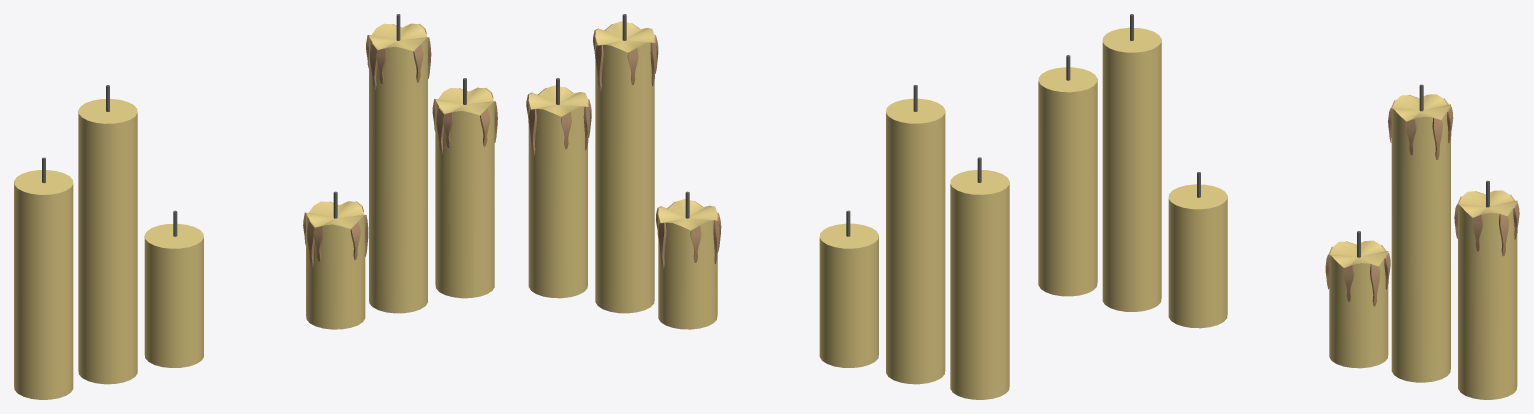
The model's file is Candles_Done_UVProper.fbx.
3 renders of one model, left to right at view 1: azimuth 30°, elevation 25°; view 2: azimuth 150°, elevation 25°; view 3: azimuth 330°, elevation 25°, orthographic.
Visible parts, largest first — view 1: Candle_Melted2, Candle_Whole2, Candle_Whole1, Candle_Melted3, Candle_Whole3, Candle_Melted1; view 2: Candle_Melted2, Candle_Whole2, Candle_Whole1, Candle_Melted3, Candle_Whole3, Candle_Melted1; view 3: Candle_Melted2, Candle_Whole2, Candle_Whole1, Candle_Melted3, Candle_Whole3, Candle_Melted1.
Boxes of the visible parts, box(x1,y1,x2,y2) form: Candle_Melted2: box(366, 14, 431, 313); Candle_Whole2: box(78, 85, 137, 384); Candle_Whole1: box(14, 157, 73, 399); Candle_Melted3: box(432, 78, 497, 298); Candle_Whole3: box(144, 210, 203, 367); Candle_Melted1: box(303, 191, 368, 329); Candle_Melted2: box(593, 14, 658, 313); Candle_Whole2: box(886, 85, 945, 384); Candle_Whole1: box(950, 157, 1009, 399); Candle_Melted3: box(526, 78, 591, 298); Candle_Whole3: box(819, 210, 878, 367); Candle_Melted1: box(656, 191, 721, 329); Candle_Melted2: box(1388, 84, 1453, 382); Candle_Whole2: box(1102, 14, 1161, 311); Candle_Whole1: box(1038, 55, 1097, 296); Candle_Melted3: box(1454, 180, 1519, 399); Candle_Whole3: box(1168, 172, 1227, 328); Candle_Melted1: box(1325, 231, 1390, 368).
Size of the model in its own units: 18.42 by 10.62 by 2.16.
